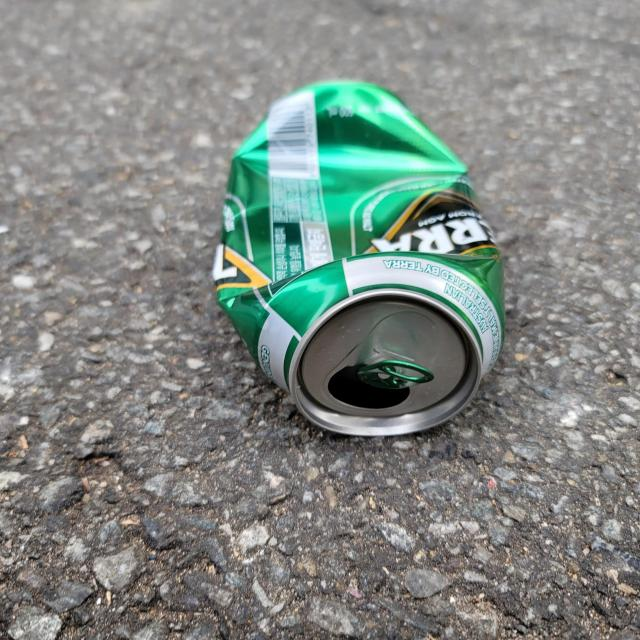can: (212, 80, 505, 436)
